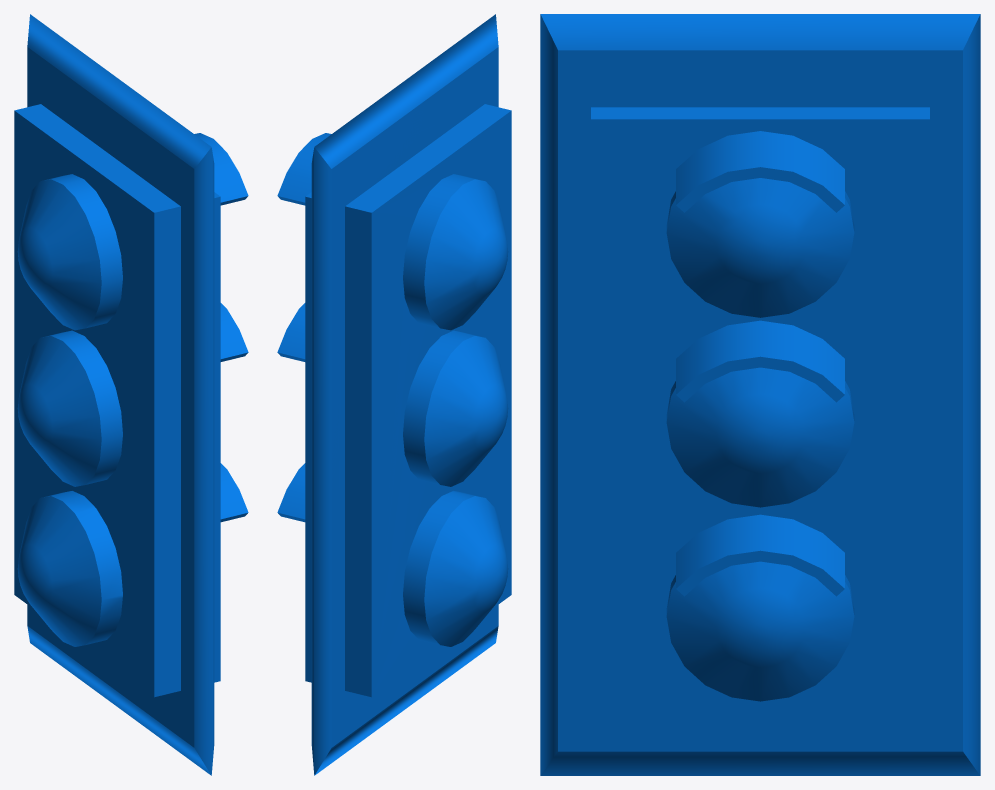
File: Traffic_Light.fbx
3 views of the same model, side by side, from view 1: azimuth 30°, elevation 25°; view 2: azimuth 150°, elevation 25°; view 3: azimuth 270°, elevation 25° (orthographic). The views are drawn at different scales.
Visible parts, largest first — view 1: pCylinder10; view 2: pCylinder10; view 3: pCylinder10.
Boxes of the visible parts, <box> form: pCylinder10: <box>14,14,248,775</box>; pCylinder10: <box>277,14,511,775</box>; pCylinder10: <box>540,14,980,775</box>.
Bounding box in the file's own units: 0.8429 × 2.69 × 1.41.
